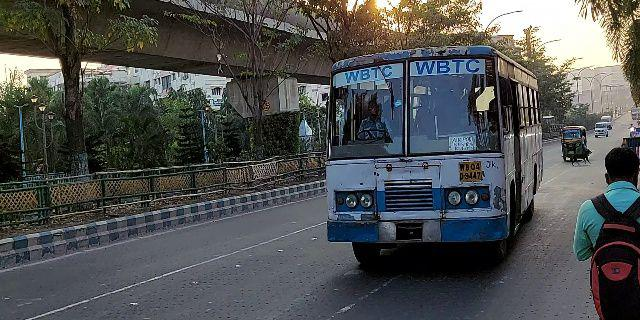Autorickshaw: (557, 122, 591, 166)
Bus: (324, 44, 546, 277)
